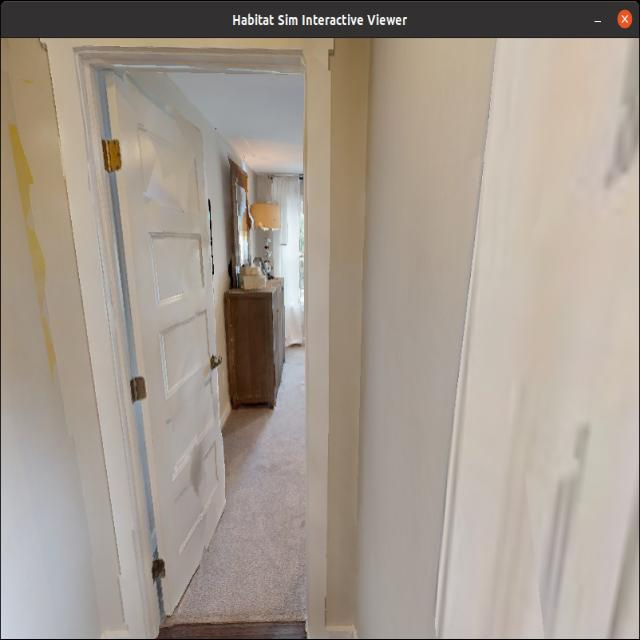door: (95, 92, 235, 614)
door-frame: (38, 41, 344, 638)
